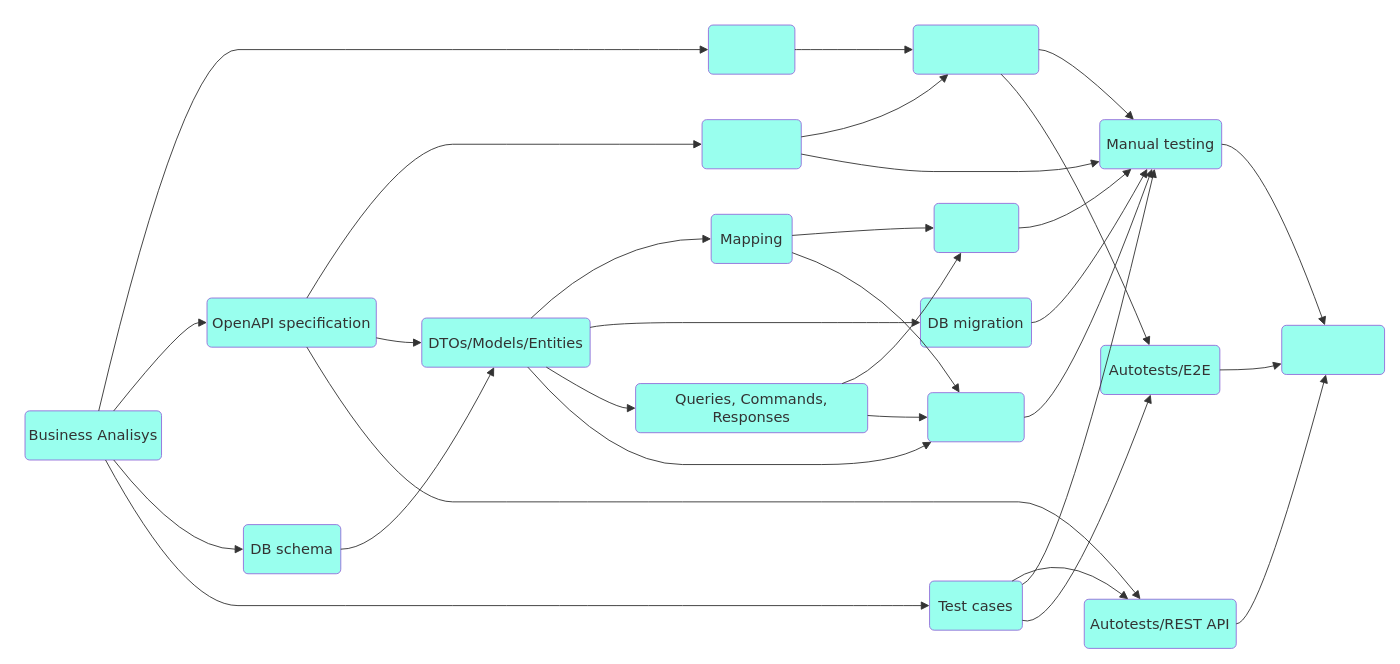
This 1400x664 diagram has some shape labels left out. Each missing label, with the centre of its shape:
"Acceptance" goes at (x=1333, y=349).
"End-points" goes at (x=975, y=417).
"FE components" goes at (x=975, y=49).
"FE services" goes at (x=751, y=144).
"Handlers" goes at (x=976, y=227).
"UI design" goes at (x=751, y=49).
